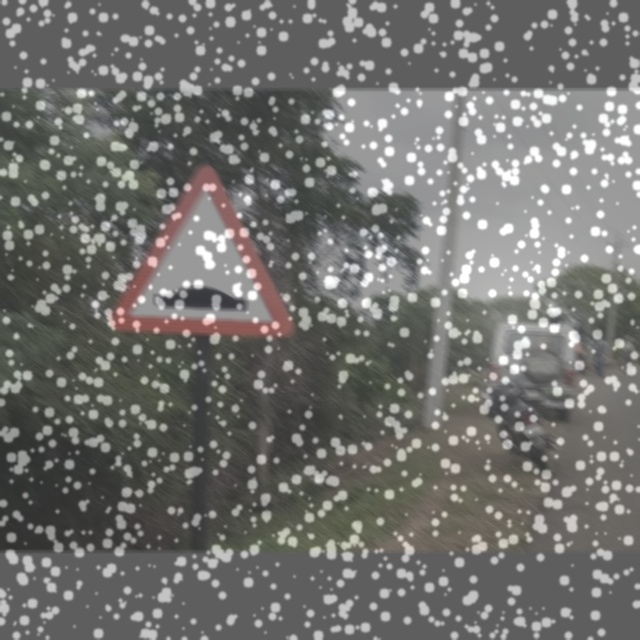Dangerous_Dip: (115, 163, 291, 339)
